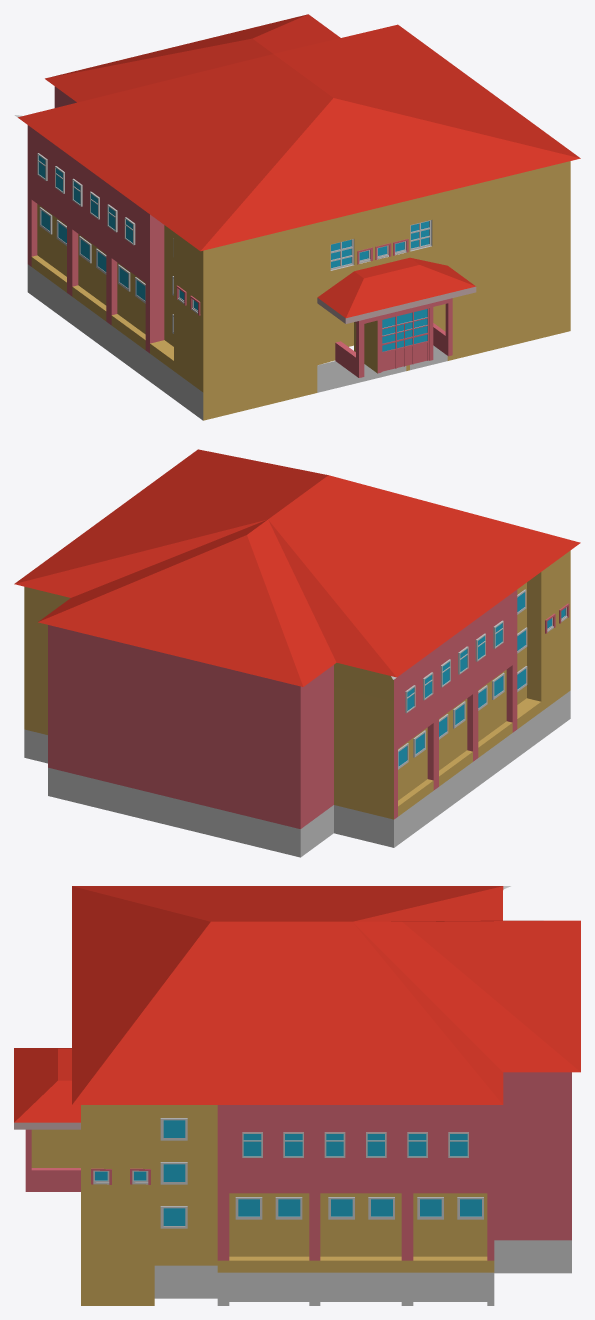
The model's file is yemekhane.fbx.
The picture shows the model from 3 angles, top to bottom: view 1: azimuth 30°, elevation 25°; view 2: azimuth 150°, elevation 25°; view 3: azimuth 270°, elevation 25°; orthographic projection. The views are drawn at different scales.
Parts seen in each view (by area): view 1: Cube, Cube.010; view 2: Cube, Cube.010; view 3: Cube, Cube.006, Cube.018, Cube.007, Cube.008, Cube.009.
Part boxes in pixels (bbox=[...]): Cube: bbox=[14, 14, 580, 420]; Cube.010: bbox=[37, 153, 135, 245]; Cube: bbox=[14, 449, 580, 857]; Cube.010: bbox=[405, 620, 503, 713]; Cube: bbox=[14, 886, 580, 1305]; Cube.006: bbox=[242, 1132, 468, 1157]; Cube.018: bbox=[160, 1118, 187, 1228]; Cube.007: bbox=[235, 1197, 302, 1219]; Cube.008: bbox=[328, 1197, 394, 1219]; Cube.009: bbox=[417, 1197, 483, 1219].
Size of the model in its own units: 1461 by 870 by 1600.
